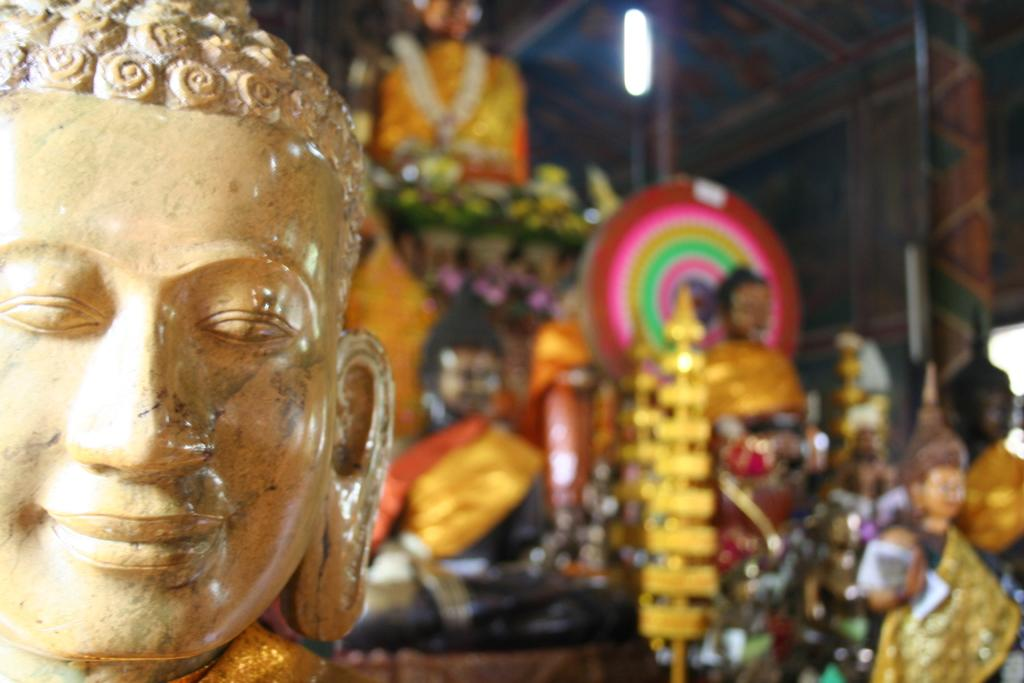Sem Máscara: (0, 87, 335, 660)
